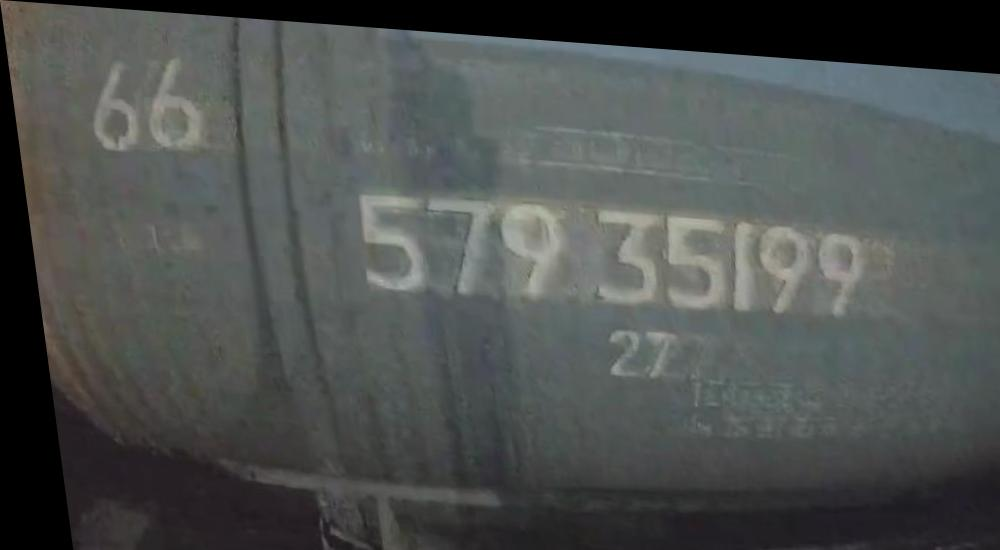Wagon-number: (339, 178, 869, 318)
